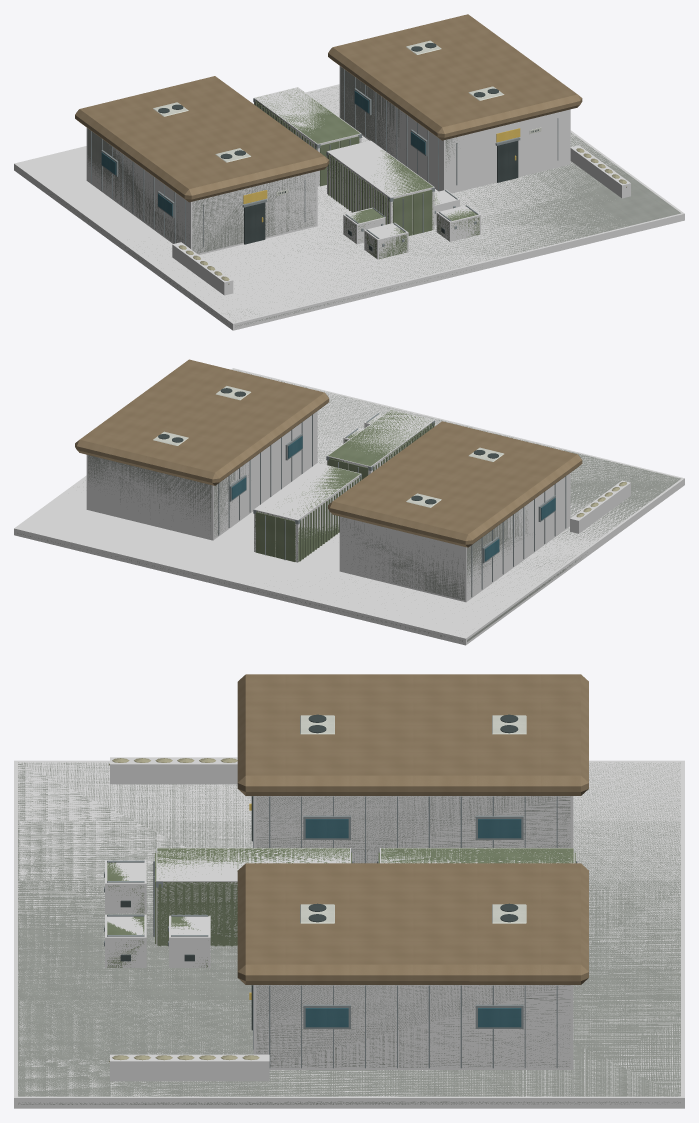
File: AmmunitionDepot.fbx
The picture shows the model from 3 angles, top to bottom: view 1: azimuth 30°, elevation 25°; view 2: azimuth 150°, elevation 25°; view 3: azimuth 270°, elevation 25°; orthographic projection. The views are drawn at different scales.
Parts seen in each view (by area): view 1: LOD0, COL_Static; view 2: COL_Static, LOD0; view 3: LOD0, COL_Static.
Part boxes in pixels (x1,y1,x2,y2): LOD0: (48,14,680,327); COL_Static: (14,66,684,330); COL_Static: (14,368,684,645); LOD0: (17,359,680,641); LOD0: (18,674,680,1104); COL_Static: (14,757,684,1108).
Size of what is drawn, in the model's own units: 2500 by 420 by 2100.
